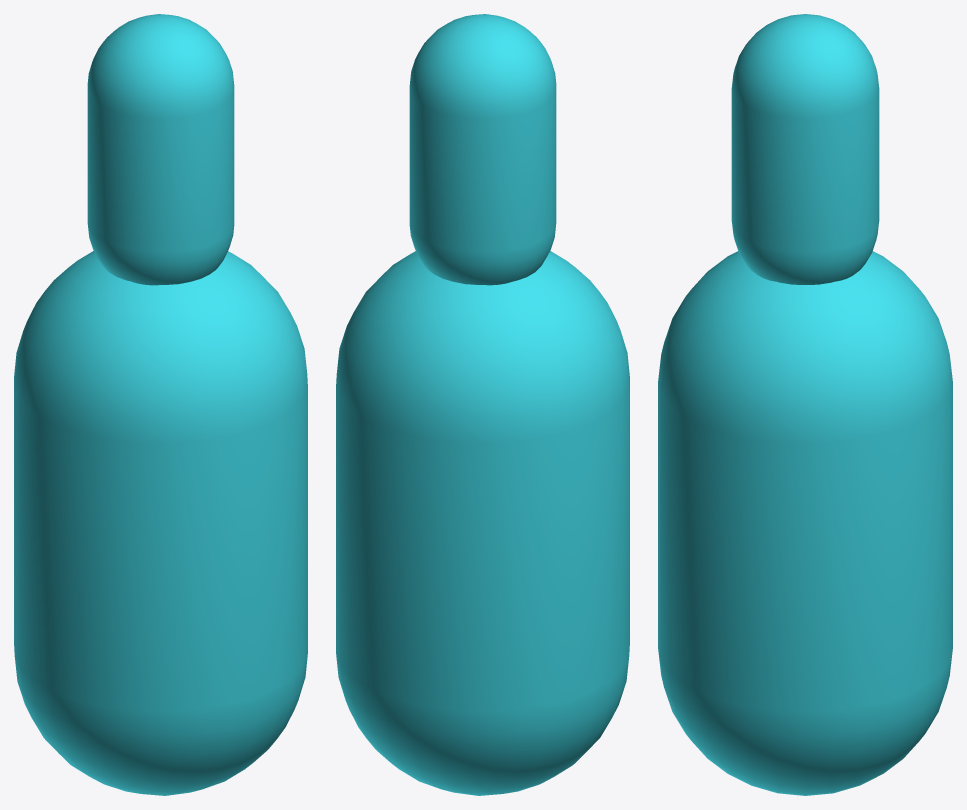
The model's file is npcsimple.fbx.
The picture shows the model from 3 angles, left to right: view 1: azimuth 30°, elevation 25°; view 2: azimuth 150°, elevation 25°; view 3: azimuth 270°, elevation 25°; orthographic projection.
Visible parts, largest first — view 1: enemybody, enemyhead; view 2: enemybody, enemyhead; view 3: enemybody, enemyhead.
Boxes of the visible parts, <box> form: enemybody: <box>14,251,307,795</box>; enemyhead: <box>87,14,234,285</box>; enemybody: <box>336,251,629,795</box>; enemyhead: <box>409,14,556,285</box>; enemybody: <box>658,251,952,795</box>; enemyhead: <box>731,14,879,284</box>.
Size of the model in its own units: 100 by 285 by 100.
